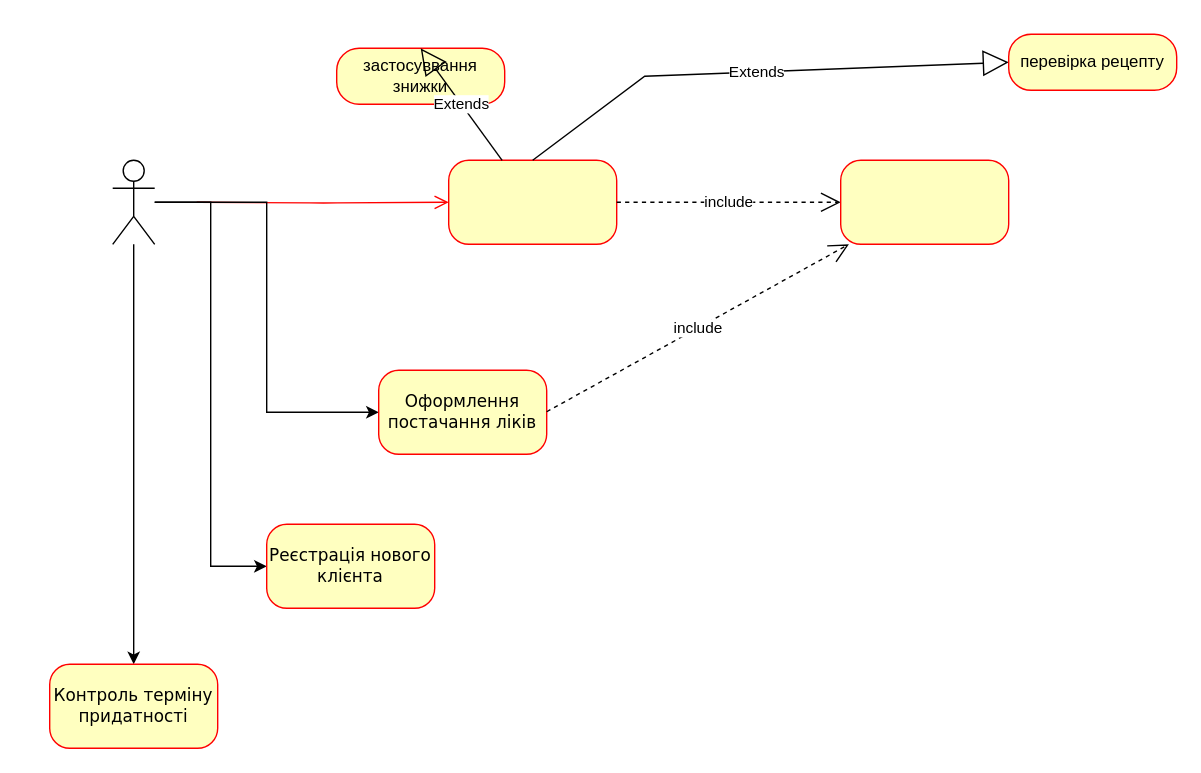
The diagram is 1201 pixels wide and 773 high, and some of its shapes have lost their labels. The centre of each missing label's shape, as x and y in pixels:
Зареєстрований користувач: (133,201)
Оновлення складу: (924,201)
Продаж ліків через касу: (532,201)
